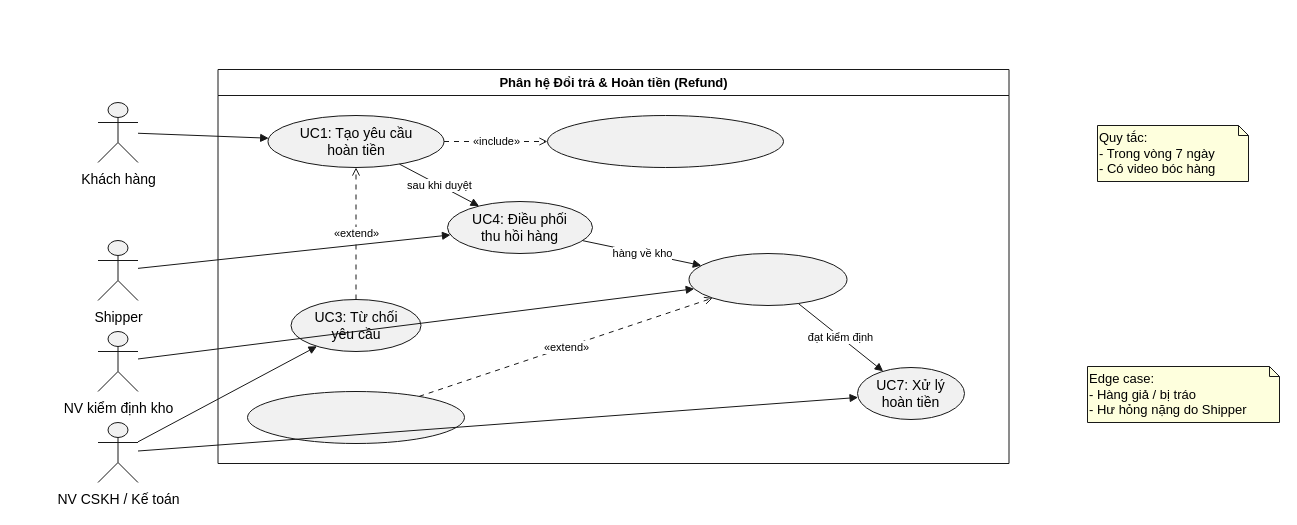
Image size: 1297x525. Some labels were removed from this diagram. The shapes that lost their labels are listed below. From the top down, each one's centre as x and y in pixels, then its label:
the point at 665,141: UC2: Kiểm tra điều kiện đổi trả
the point at 767,279: UC5: Kiểm định hàng hoàn kho
the point at 355,417: UC6: Xử lý tranh chấp (hàng giả / hư hỏng)
